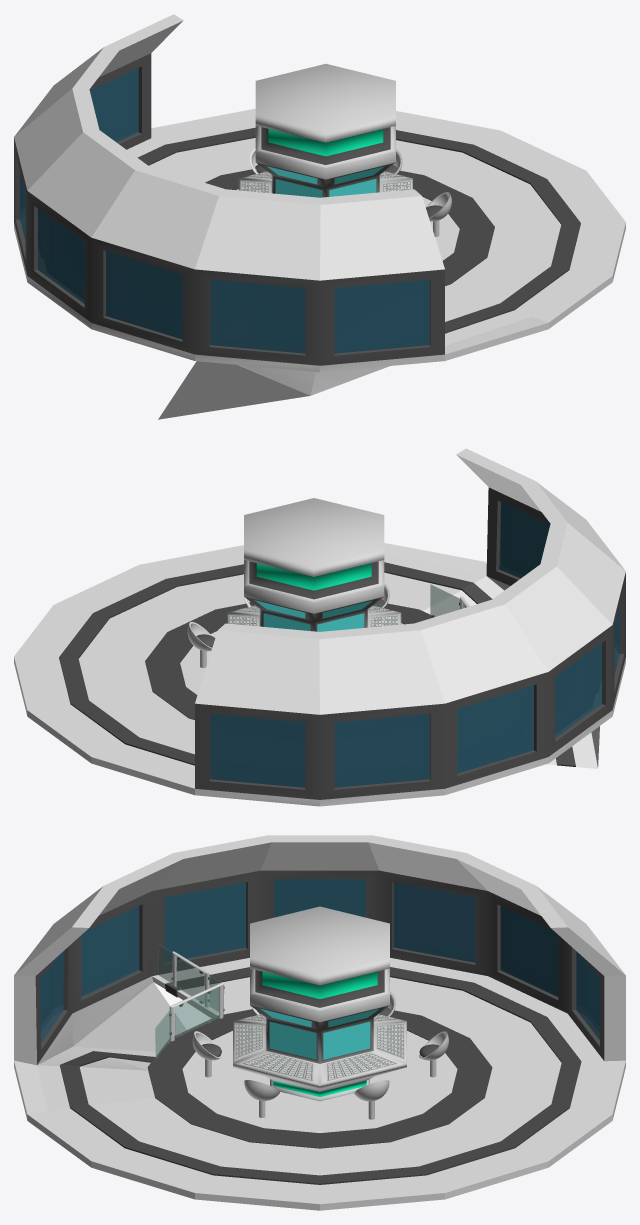
File: TechnoVerwaltunsStelle.fbx
3 views of the same model, one above another, from view 1: azimuth 30°, elevation 25°; view 2: azimuth 150°, elevation 25°; view 3: azimuth 270°, elevation 25° (orthographic).
Parts seen in each view (by area): view 1: BodenWand, PC; view 2: BodenWand, PC, GlasZaun:ZaunInnenGlas4; view 3: BodenWand, PC, GlasZaun:ZaunInnenGlas3, GlasZaun:ZaunInnenGlas1, GlasZaun:HoloGrammZaun1, Stuhl:SitzSchüssel, SitzSchüssel.
Part boxes in pixels (bbox=[...]): BodenWand: bbox=[14, 14, 625, 419]; PC: bbox=[238, 63, 412, 197]; BodenWand: bbox=[14, 448, 625, 806]; PC: bbox=[227, 498, 401, 631]; GlasZaun:ZaunInnenGlas4: bbox=[430, 584, 459, 616]; BodenWand: bbox=[14, 835, 625, 1210]; PC: bbox=[233, 906, 406, 1101]; GlasZaun:ZaunInnenGlas3: bbox=[175, 988, 218, 1037]; GlasZaun:ZaunInnenGlas1: bbox=[164, 956, 204, 1003]; GlasZaun:HoloGrammZaun1: bbox=[169, 982, 223, 1041]; Stuhl:SitzSchüssel: bbox=[354, 1080, 389, 1101]; SitzSchüssel: bbox=[244, 1080, 279, 1100].
Size of the model in its own units: 60.09 by 24.42 by 60.42.
